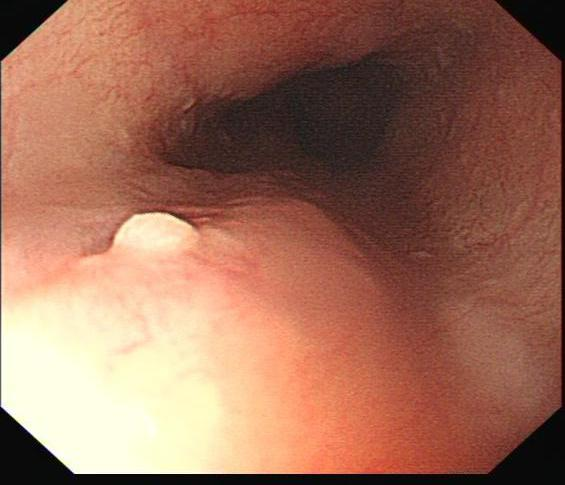Polyp: (106, 210, 202, 264)
